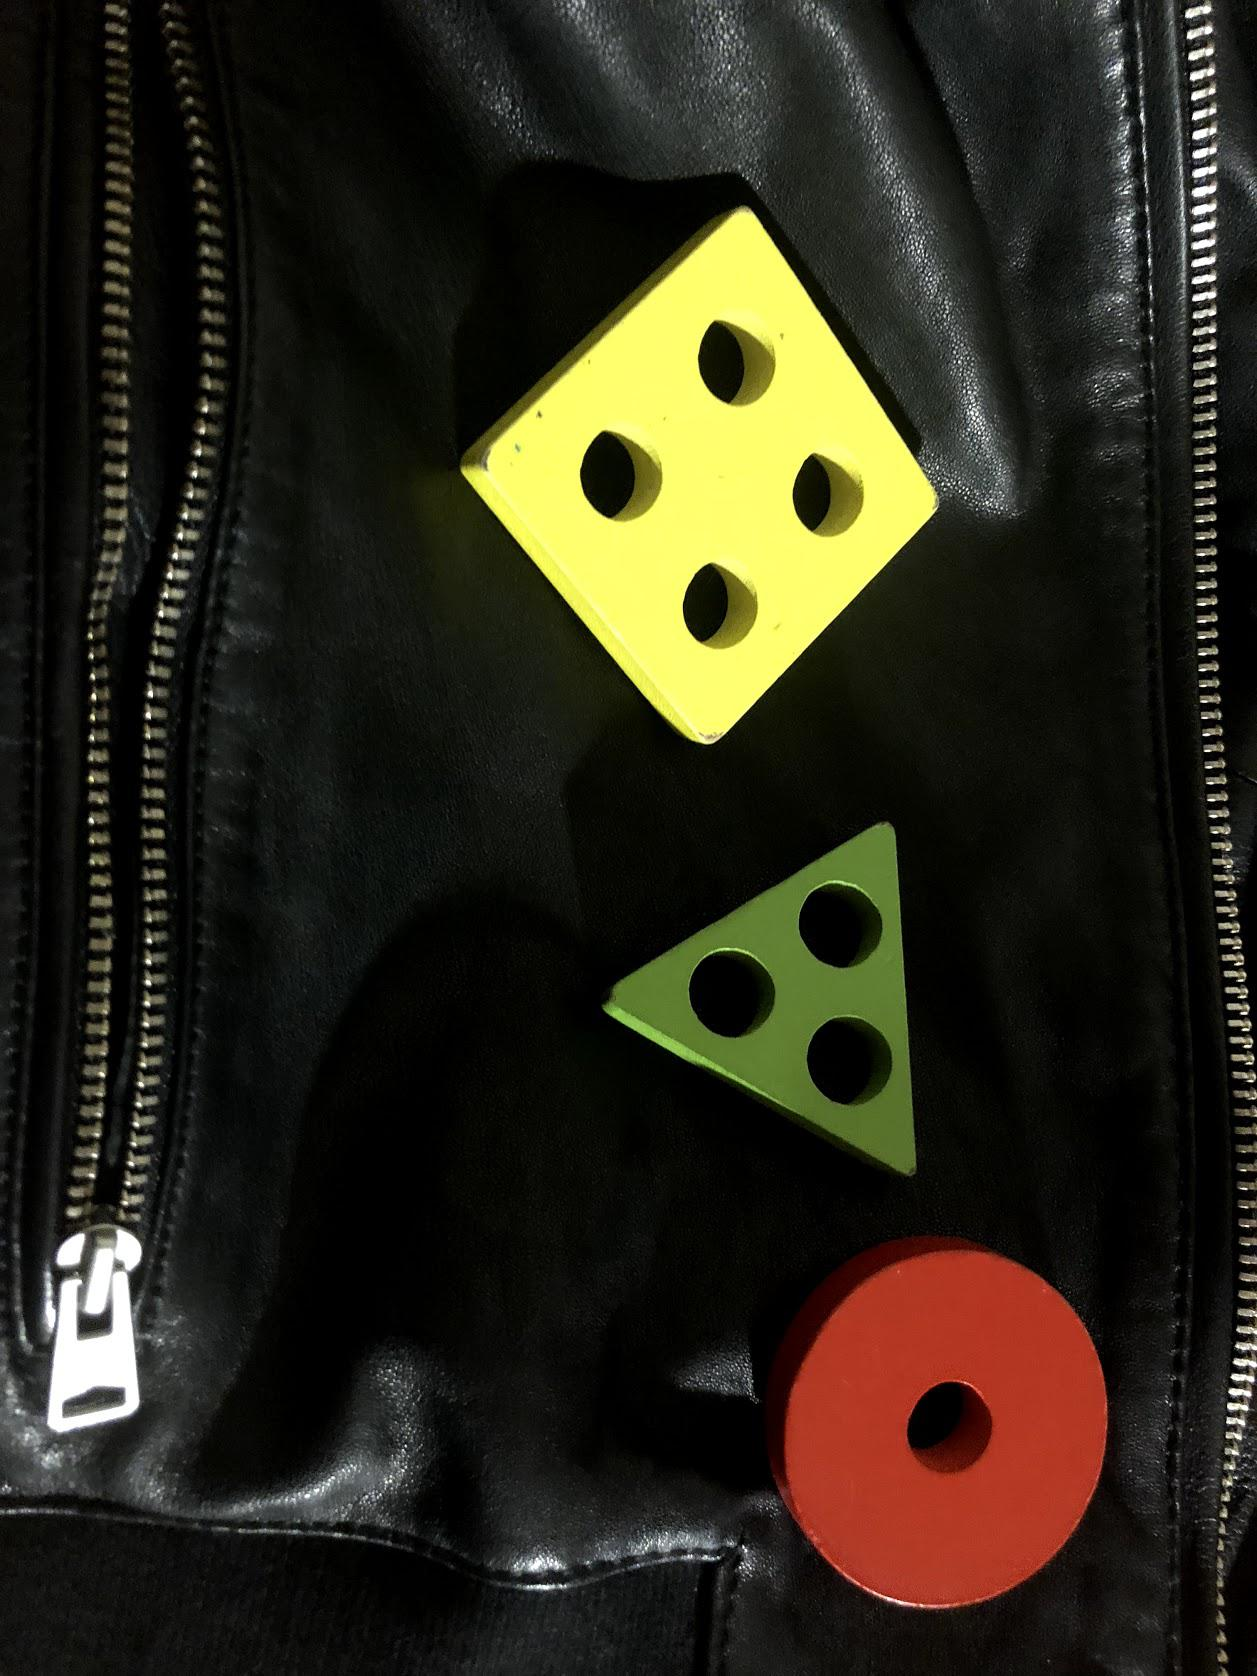Circle: (775, 1247, 1118, 1607)
Square: (450, 201, 947, 744)
Triangle: (599, 817, 914, 1167)
